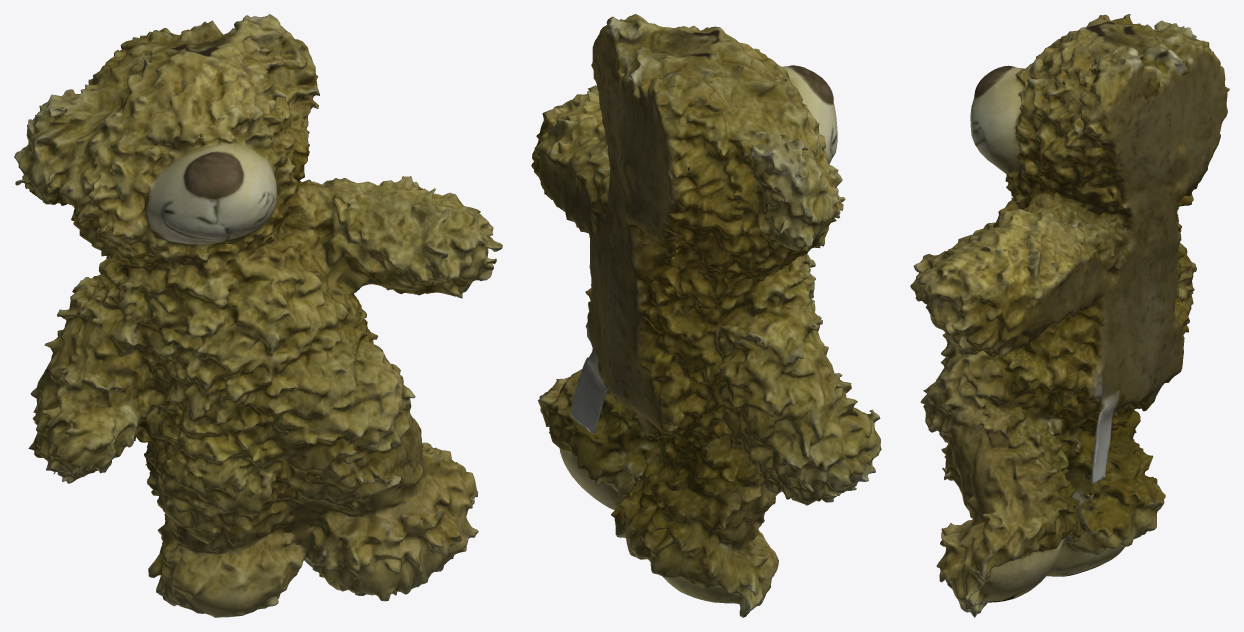
The model's file is Lovable_Huggable_Cuddly_Boutique_Teddy_Bear_Beige.glb.
3 renders of one model, left to right at view 1: azimuth 30°, elevation 25°; view 2: azimuth 150°, elevation 25°; view 3: azimuth 270°, elevation 25°, orthographic. The views are drawn at different scales.
Parts seen in each view (by area): view 1: geometry_0; view 2: geometry_0; view 3: geometry_0.
Boxes of the visible parts, left/top/right/bottom form: geometry_0: left=14, top=14, right=502, bottom=617; geometry_0: left=531, top=14, right=881, bottom=617; geometry_0: left=910, top=14, right=1229, bottom=617.
Size of the model in its own units: 0.7216 by 0.9996 by 0.5308.
Materials: 1 (1 with a texture image).
